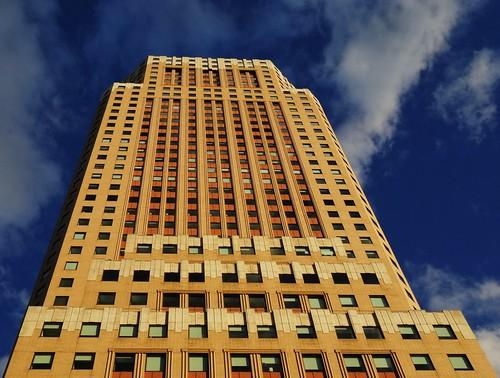building: (9, 46, 496, 377)
